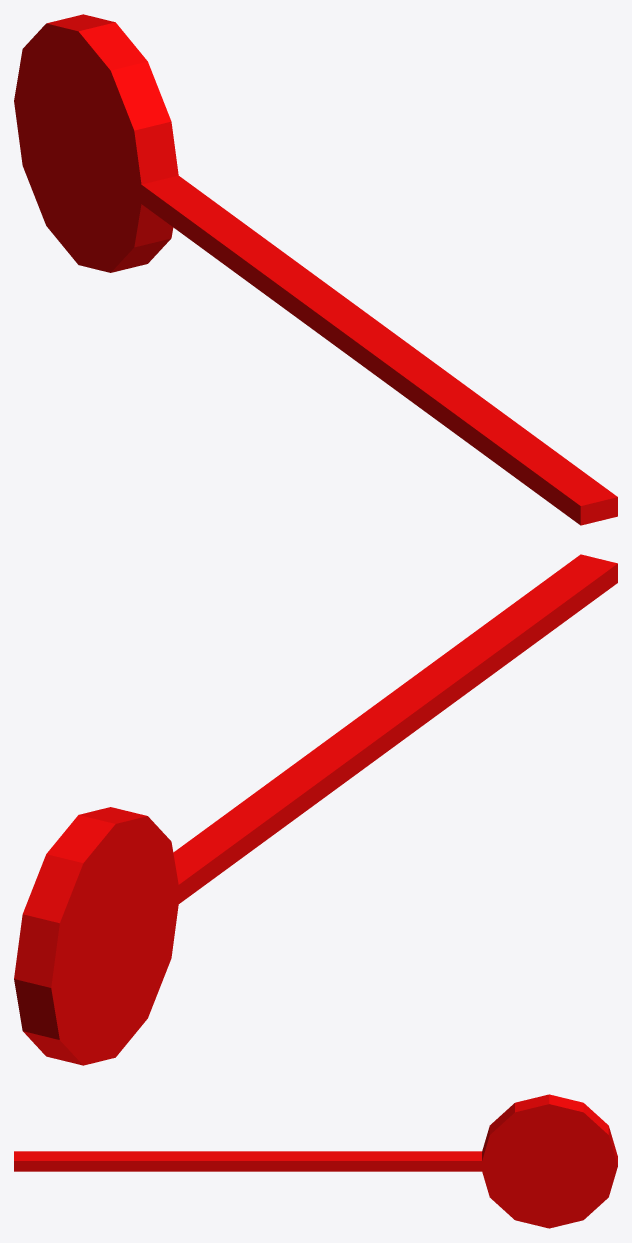
Rendered from MARUMAN-55-ANALOG-CLOCK-BODYSET5_link_mesh.dae.
3 renders of one model, top to bottom at view 1: azimuth 30°, elevation 25°; view 2: azimuth 150°, elevation 25°; view 3: azimuth 270°, elevation 25°, orthographic. The views are drawn at different scales.
Parts seen in each view (by area): view 1: MARUMAN-55-ANALOG-CLOCK-BODYSET5_link (×2); view 2: MARUMAN-55-ANALOG-CLOCK-BODYSET5_link (×2); view 3: MARUMAN-55-ANALOG-CLOCK-BODYSET5_link (×2).
Boxes of the visible parts, x1=… form: MARUMAN-55-ANALOG-CLOCK-BODYSET5_link (×2): x1=14, y1=14, x2=617, y2=525; MARUMAN-55-ANALOG-CLOCK-BODYSET5_link (×2): x1=14, y1=554, x2=617, y2=1065; MARUMAN-55-ANALOG-CLOCK-BODYSET5_link (×2): x1=14, y1=1094, x2=617, y2=1228.
Size of the model in its own units: 0.001 by 0.006 by 0.0264.
